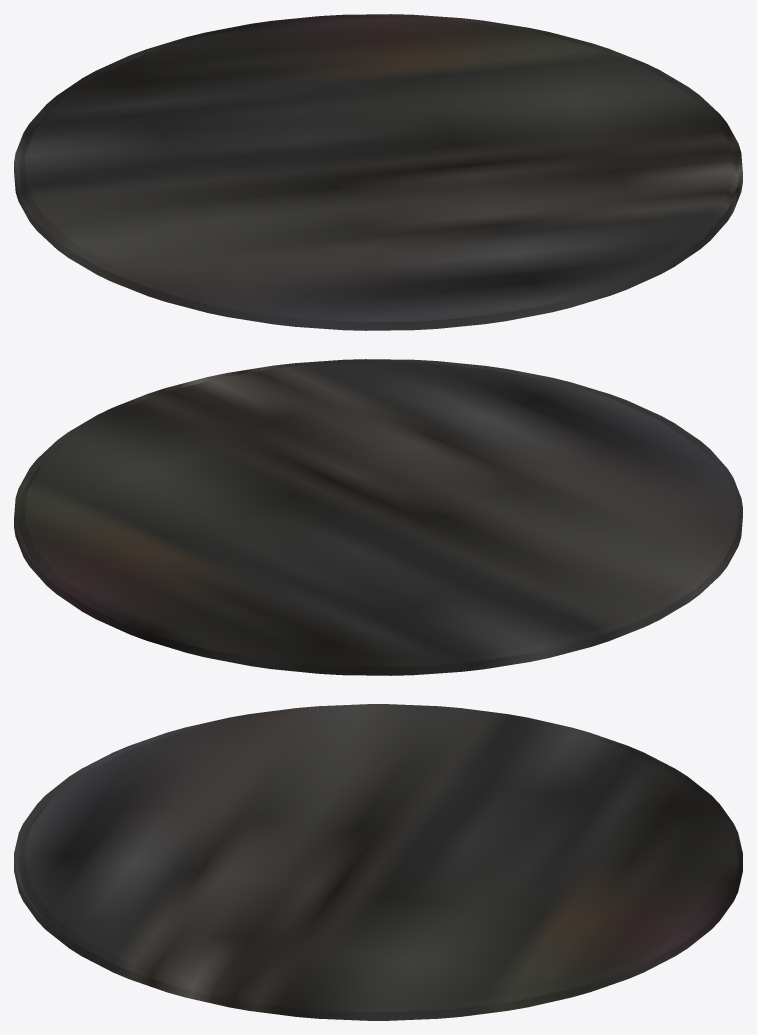
The model's file is Dart Board.glb.
3 views of the same model, one above another, from view 1: azimuth 30°, elevation 25°; view 2: azimuth 150°, elevation 25°; view 3: azimuth 270°, elevation 25° (orthographic).
Visible parts, largest first — view 1: Circle.011; view 2: Circle.011; view 3: Circle.011.
Boxes of the visible parts, x1=… form: Circle.011: x1=14, y1=14, x2=742, y2=330; Circle.011: x1=14, y1=359, x2=742, y2=675; Circle.011: x1=14, y1=704, x2=742, y2=1020.
Bounding box in the file's own units: 34.31 × 0.595 × 34.31.
1 material, 1 textured.
